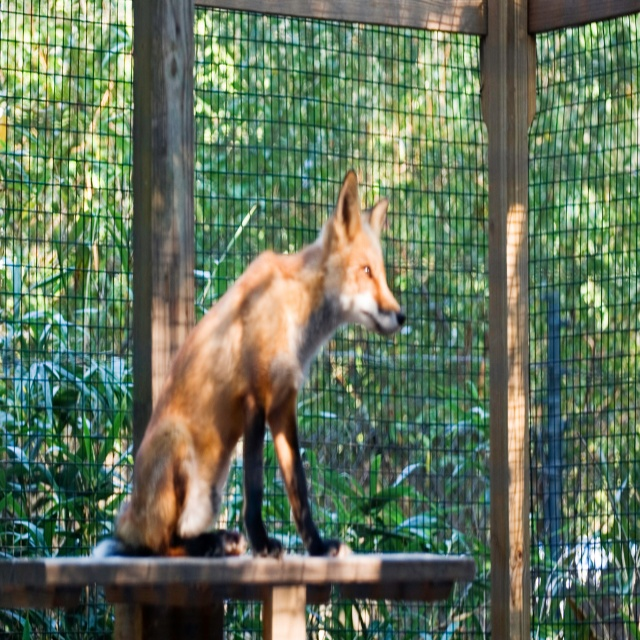Fox: (88, 168, 405, 561)
